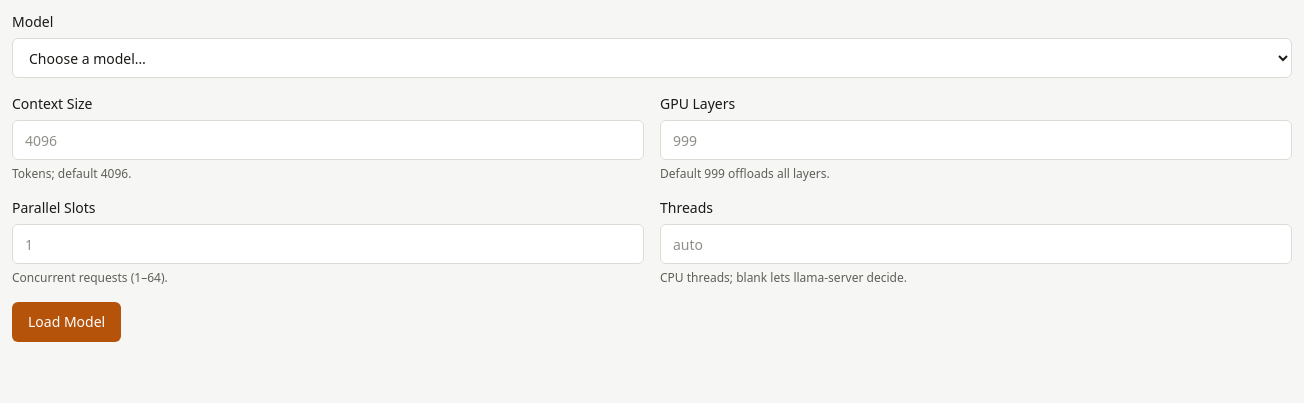
Scenario: LoadModelForm › shows inline errors and focuses the first invalid field
The width and height of the screenshot is (1304, 403).
In the number field labelled "Parallel Slots": (328, 244) [12, 224, 644, 264], type "0"
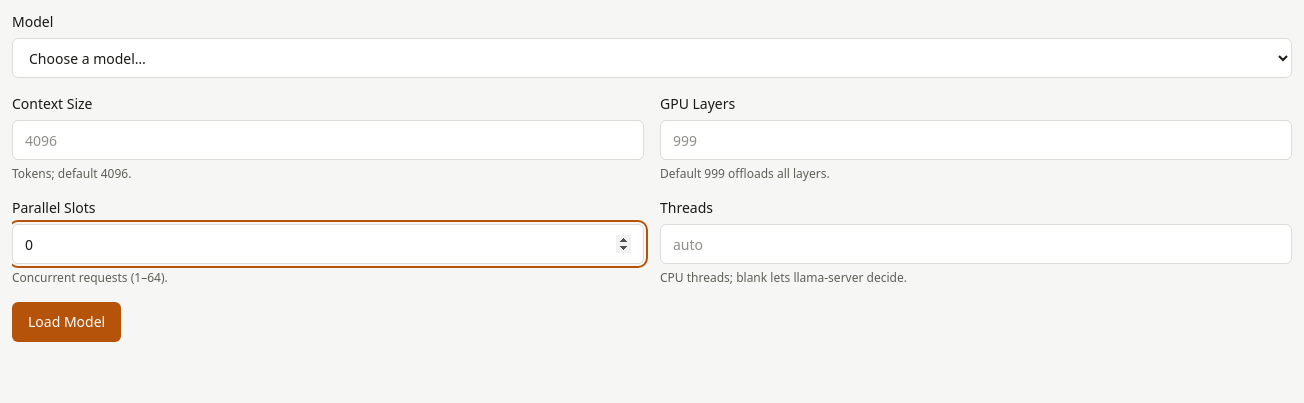
Click the button "Load Model": (67, 322) [12, 302, 121, 342]
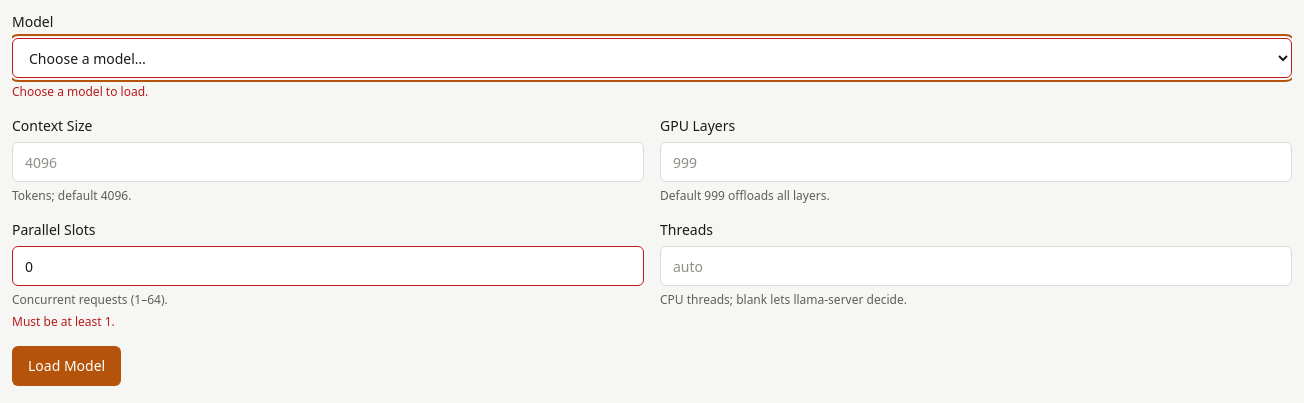
Result: the text "Choose a model to load." is shown at [12, 83, 148, 100]
Result: the text "Must be at least 1." is shown at [12, 313, 115, 330]
